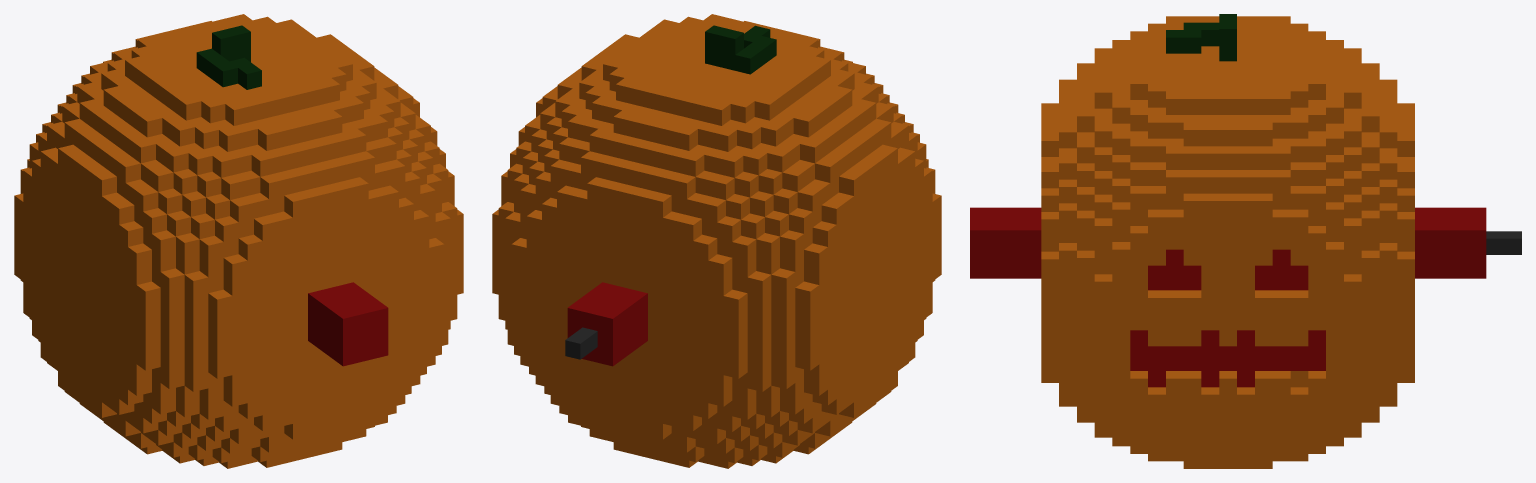
File: Pumpkin.obj
3 renders of one model, left to right at view 1: azimuth 30°, elevation 25°; view 2: azimuth 150°, elevation 25°; view 3: azimuth 270°, elevation 25°, orthographic.
Size of the model in its own units: 2.1 by 2.4 by 3.1.
Materials: 1 (1 with a texture image).
